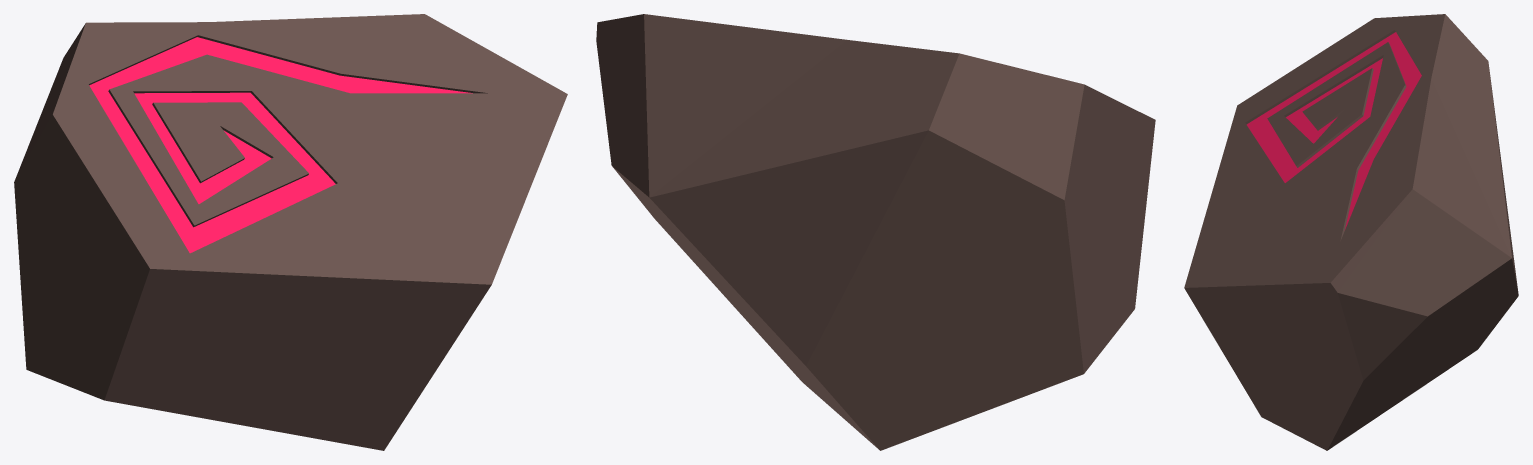
The model's file is SpiralStone_03.glb.
3 views of the same model, side by side, from view 1: azimuth 30°, elevation 25°; view 2: azimuth 150°, elevation 25°; view 3: azimuth 270°, elevation 25° (orthographic). The views are drawn at different scales.
Parts seen in each view (by area): view 1: SpiralStone_03; view 2: SpiralStone_03; view 3: SpiralStone_03.
Boxes of the visible parts, x1,y1,x2,y2 form: SpiralStone_03: (14,14,567,450); SpiralStone_03: (596,14,1155,450); SpiralStone_03: (1184,14,1518,450).
Size of what is drawn, in the model's own units: 1.26 by 1.01 by 0.8779.
Materials: 1 (1 with a texture image).
